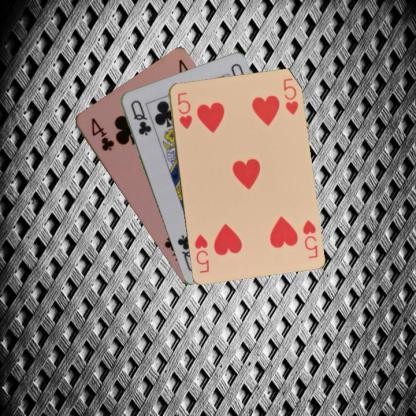4c: (88, 115, 115, 152)
5h: (299, 216, 319, 260), (174, 90, 193, 130)
Qc: (128, 97, 152, 137)
